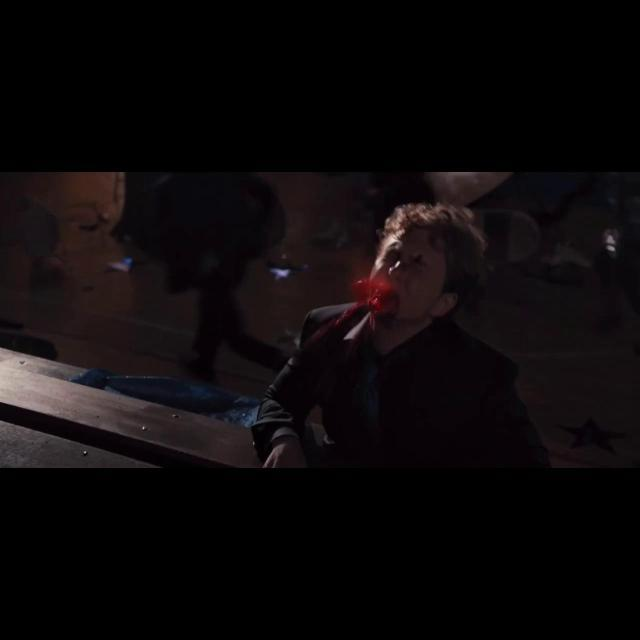blood: (308, 239, 403, 343), (405, 252, 422, 276)
